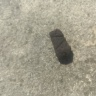Dog: (49, 28, 76, 65)
